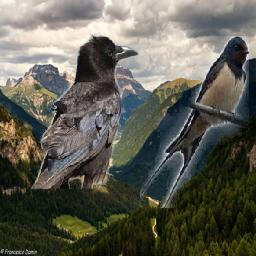Crow: (31, 33, 139, 189)
Swallow: (141, 36, 250, 208)
